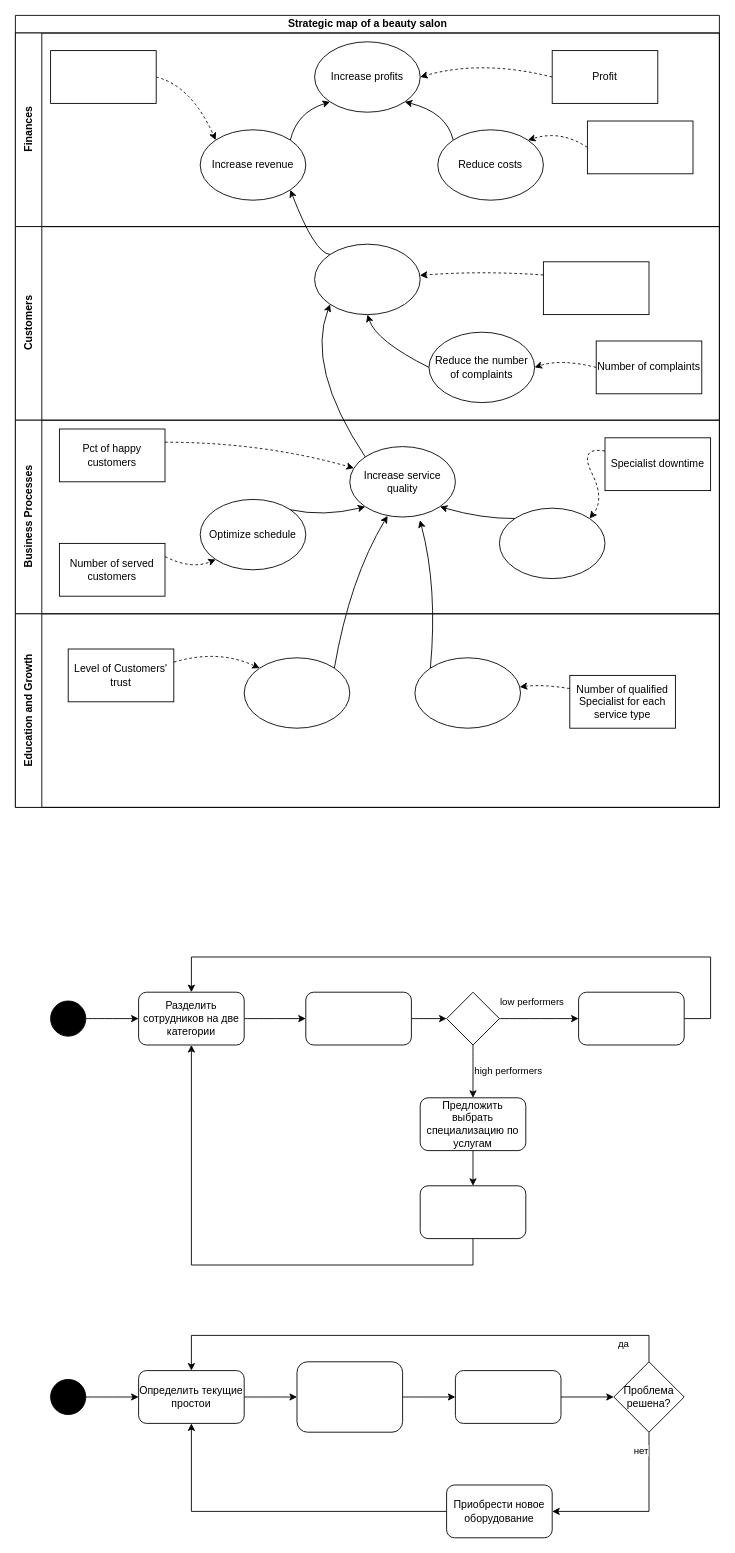
This 735x1553 diagram has some shape labels left out. Each missing label, with the centre of its shape:
"Cost Price" goes at pixel 640 147.
"Improve Specialists' Soft Skills" goes at pixel 296 692.
"Increase number of regular customers" goes at pixel 367 279.
"Increase service availability" goes at pixel 552 543.
"Pct of regular customers" goes at pixel 596 288.
"Revenue" goes at pixel 103 76.
"Train Specialist" goes at pixel 467 692.
"Изменить рабочие графики" goes at pixel 508 1396.
"Предложить обучение новым навыкам" goes at pixel 631 1018.
"Предложить улучшение навыка" goes at pixel 472 1212.
"Разграничить расписание специалистов по видам услуг" goes at pixel 349 1396.
"Составить список действующих компетенций" goes at pixel 358 1018.
